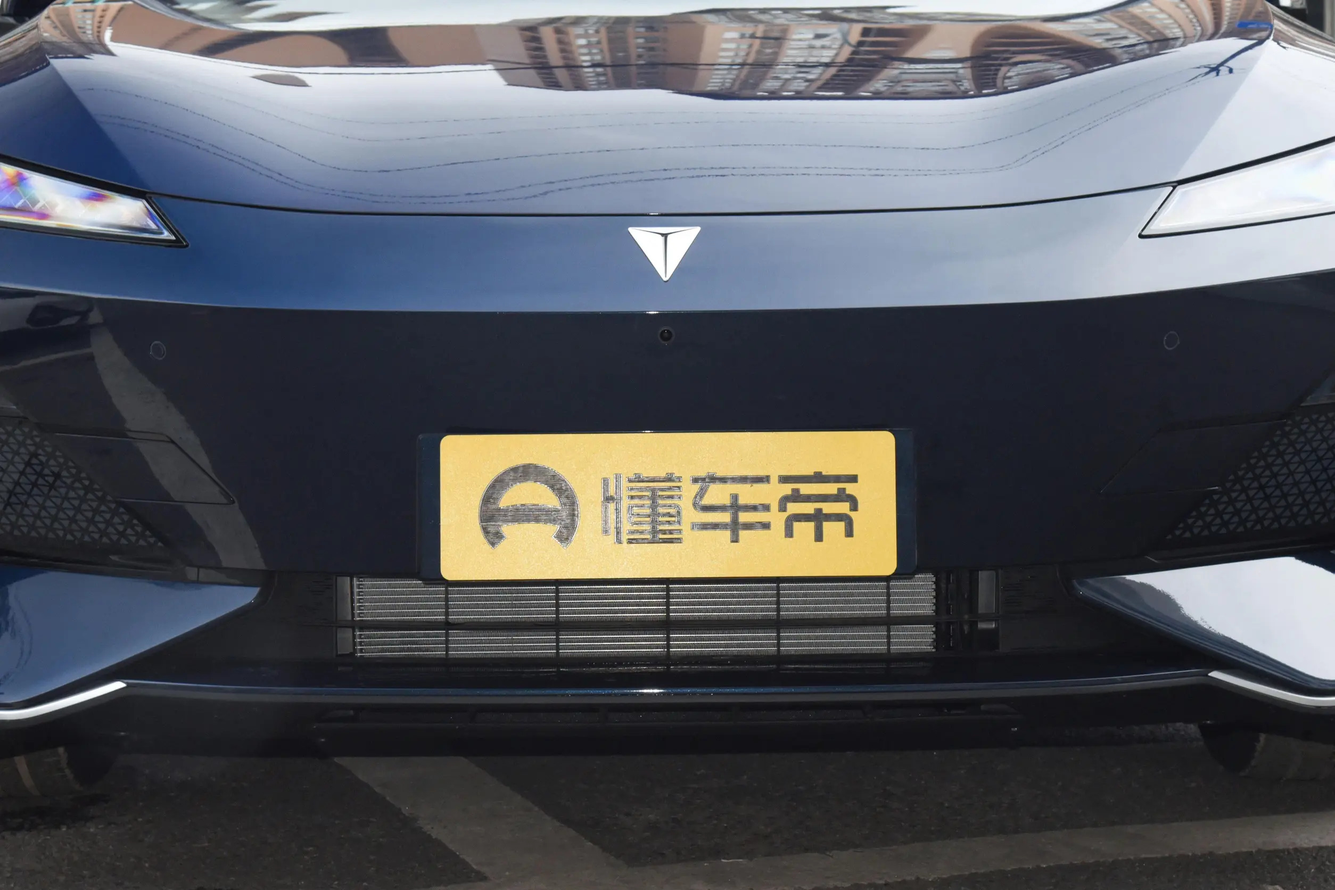Deepal: (628, 226, 701, 281)
